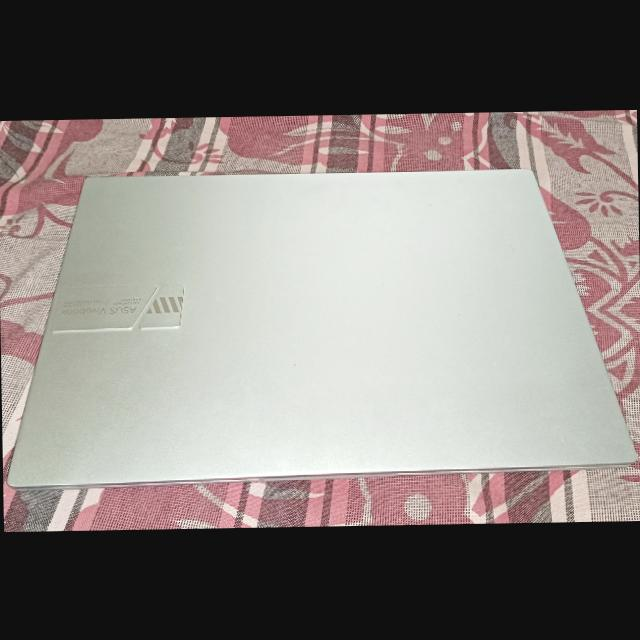laptop: (17, 144, 640, 501)
